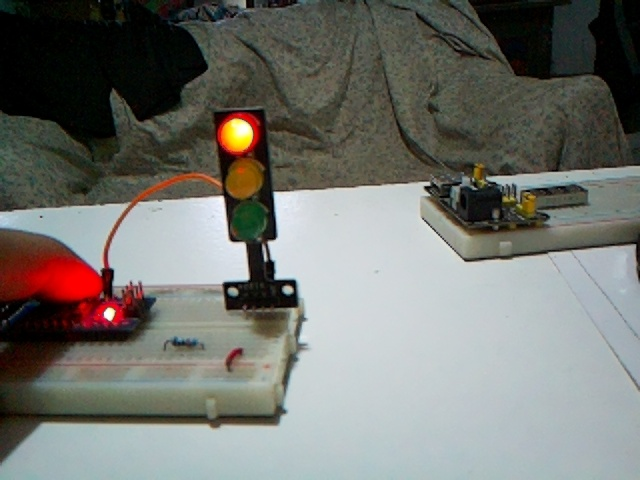traffic_light_red: (214, 108, 277, 243)
